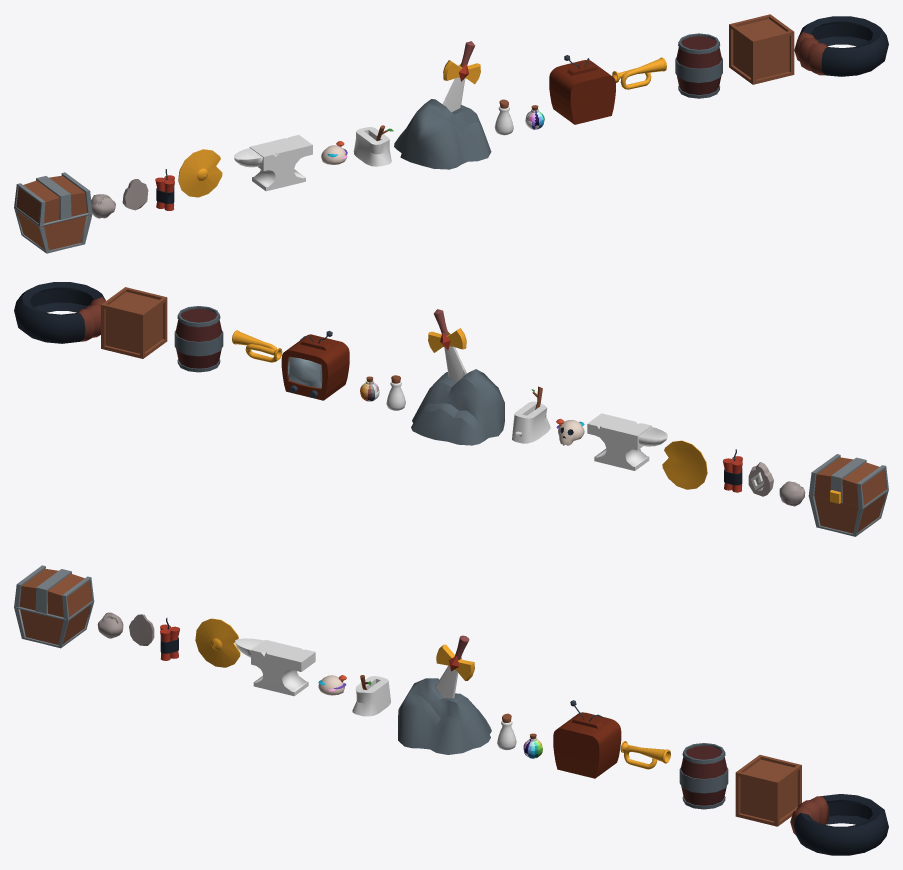
Rendered from Object Bundle1.fbx.
The picture shows the model from 3 angles, top to bottom: view 1: azimuth 30°, elevation 25°; view 2: azimuth 150°, elevation 25°; view 3: azimuth 330°, elevation 25°; orthographic projection.
Parts seen in each view (by area): view 1: Cube, Junk_Tire, Cube.001, Cylinder.013, Cone.014, Junk_Barrel, Cube.004, Cone, Torus.002, brokensword, Cylinder, Cylinder.001 (+3 smaller); view 2: Cube, Junk_Tire, Cube.001, Cylinder.013, Cone.014, Junk_Barrel, Cube.004, Cone, Torus.002, Cylinder, brokensword, Cylinder.001 (+3 smaller); view 3: Cube, Junk_Tire, Cube.001, Cylinder.013, Cone.014, Cube.004, Junk_Barrel, Cone, Torus.002, brokensword, Cylinder, Cylinder.001 (+2 smaller).
Part boxes in pixels (bbox=[...]): Cube: bbox=[394, 99, 491, 169]; Junk_Tire: bbox=[794, 16, 888, 76]; Cube.001: bbox=[729, 14, 794, 84]; Cylinder.013: bbox=[549, 55, 615, 124]; Cone.014: bbox=[14, 172, 92, 226]; Junk_Barrel: bbox=[675, 33, 722, 98]; Cube.004: bbox=[234, 135, 312, 191]; Cone: bbox=[14, 208, 92, 253]; Torus.002: bbox=[178, 149, 222, 197]; brokensword: bbox=[443, 41, 480, 112]; Cylinder: bbox=[353, 125, 393, 166]; Cylinder.001: bbox=[612, 57, 666, 89]; Cube: bbox=[411, 369, 504, 445]; Junk_Tire: bbox=[14, 282, 105, 343]; Cube.001: bbox=[101, 287, 167, 358]; Cylinder.013: bbox=[281, 330, 349, 400]; Cone.014: bbox=[808, 454, 888, 508]; Junk_Barrel: bbox=[174, 306, 223, 372]; Cube.004: bbox=[587, 413, 667, 470]; Cone: bbox=[808, 490, 888, 536]; Torus.002: bbox=[662, 440, 707, 489]; Cylinder: bbox=[512, 386, 550, 443]; brokensword: bbox=[428, 309, 466, 381]; Cylinder.001: bbox=[232, 330, 282, 362]; Cube: bbox=[398, 678, 491, 754]; Junk_Tire: bbox=[790, 794, 888, 855]; Cube.001: bbox=[735, 755, 801, 826]; Cylinder.013: bbox=[553, 700, 621, 778]; Cone.014: bbox=[14, 565, 94, 620]; Cube.004: bbox=[235, 638, 315, 696]; Junk_Barrel: bbox=[679, 743, 728, 809]; Cone: bbox=[14, 601, 94, 648]; Torus.002: bbox=[195, 618, 240, 667]; brokensword: bbox=[436, 635, 474, 698]; Cylinder: bbox=[352, 675, 390, 716]; Cylinder.001: bbox=[620, 741, 670, 769].
Bounding box in the file's own units: 42.61 × 5.3 × 4.33.
